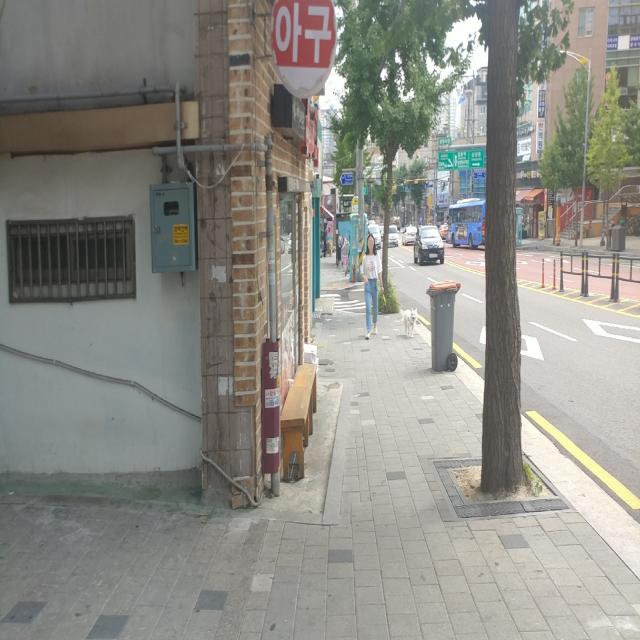횡단보도: (320, 292, 373, 310)
